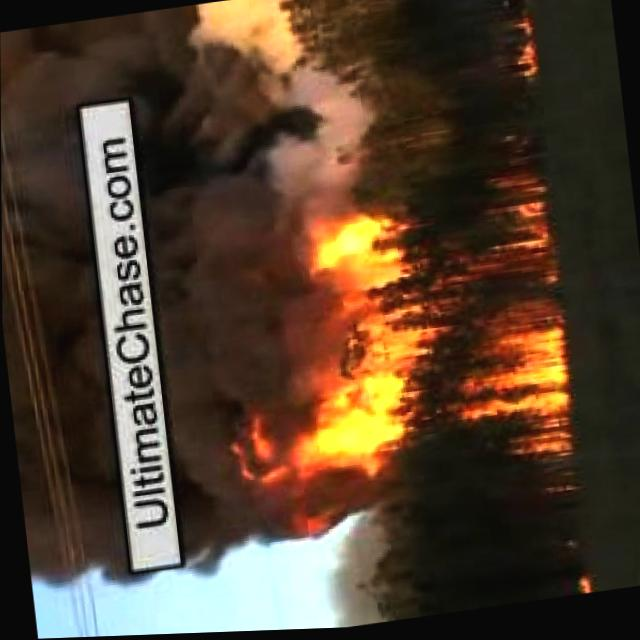Fire: (201, 183, 581, 531), (502, 3, 536, 91)
Smoke: (123, 0, 366, 579), (0, 26, 122, 592)
